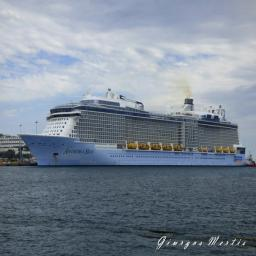cruises: (17, 88, 249, 171)
